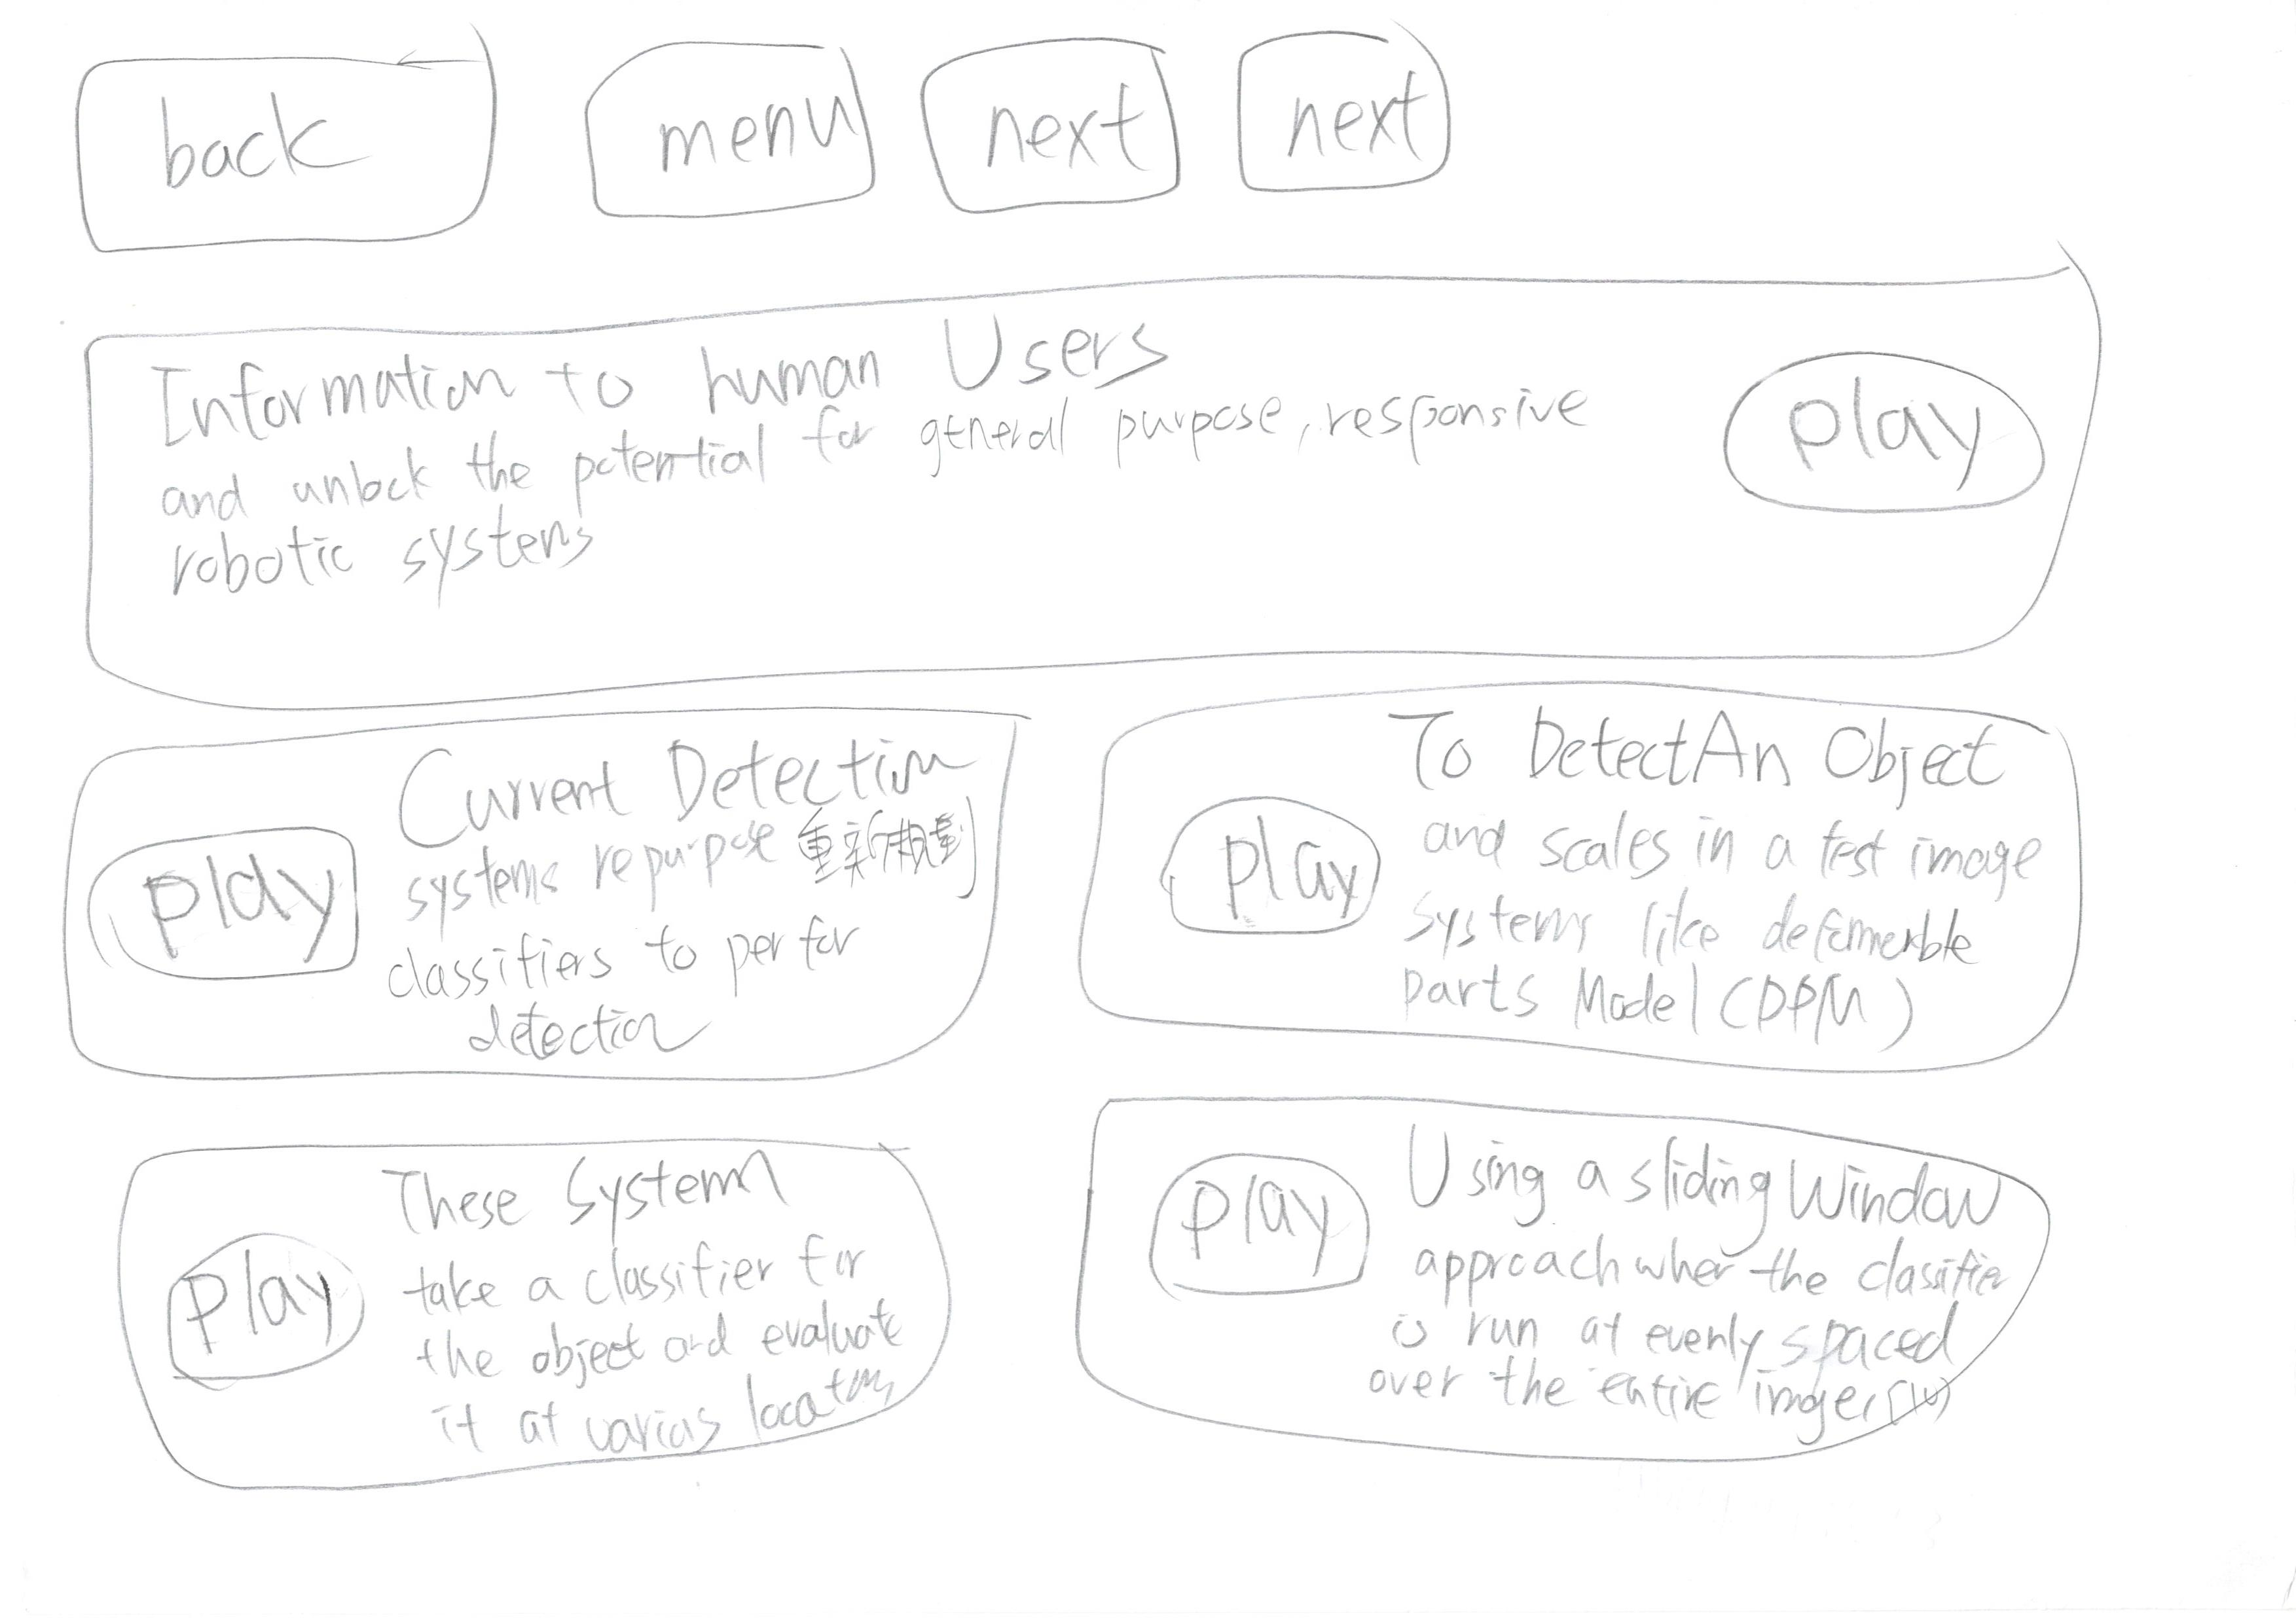back: (56, 21, 527, 281)
double: (1046, 1084, 2082, 1503), (33, 684, 1067, 1102), (1072, 671, 2106, 1090), (0, 1090, 1034, 1508)
menu: (564, 23, 911, 255)
next: (902, 7, 1224, 241), (1211, 0, 1531, 234)
play: (1688, 344, 2064, 538), (77, 808, 364, 1005), (1125, 772, 1389, 970), (1106, 1128, 1370, 1327), (130, 1204, 394, 1403)
single: (47, 264, 2222, 719)
small-title: (149, 311, 1178, 424), (1406, 680, 2048, 824), (1377, 1121, 2006, 1251), (403, 726, 1046, 847), (381, 1134, 860, 1246)
text: (121, 373, 1642, 584), (1380, 1213, 2039, 1439), (1415, 814, 2029, 1028), (366, 838, 979, 1039), (401, 1243, 907, 1434)
